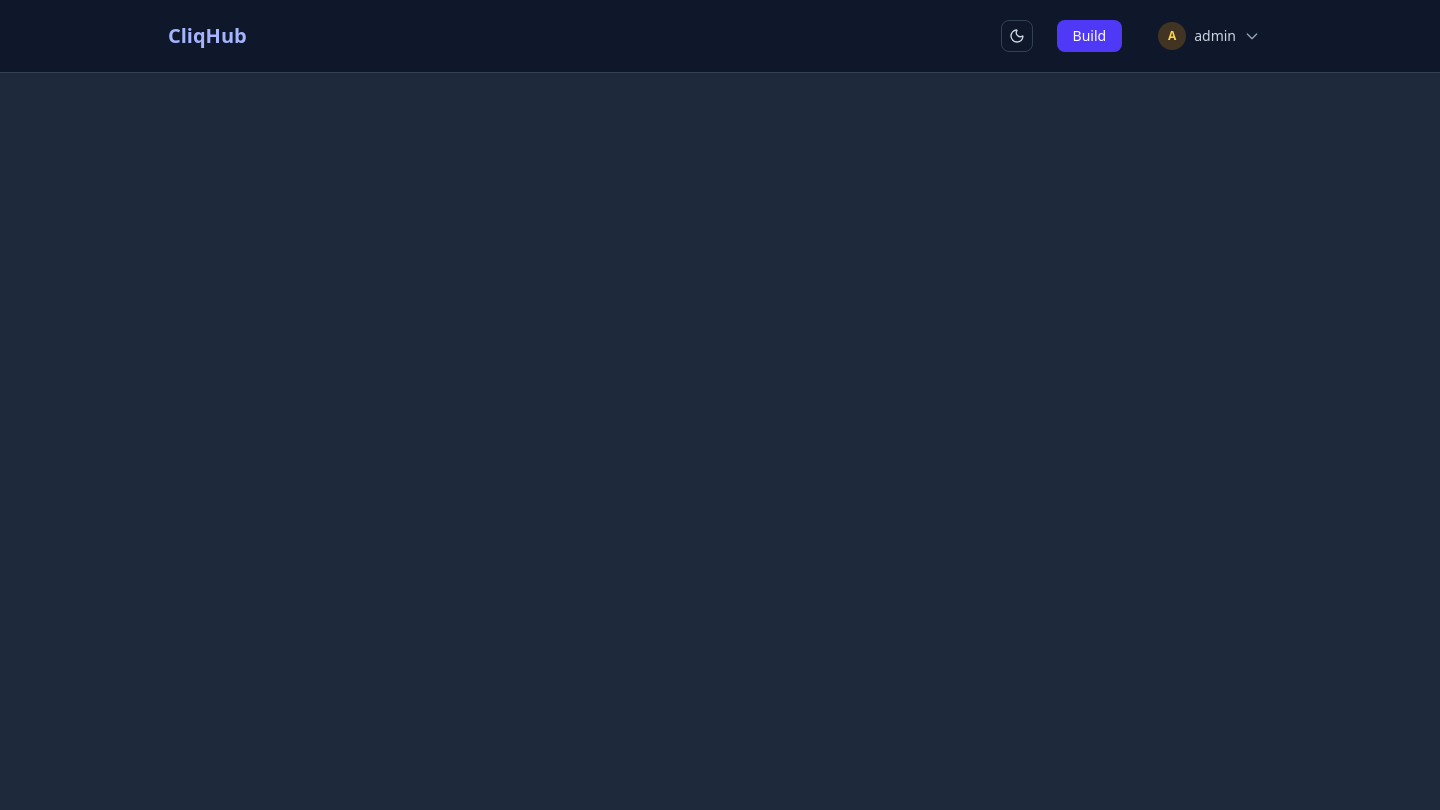
Test: NavBar › opens admin menu and closes on outside click
Expected: the link "Build" is shown, left=1057, top=20, right=1122, bottom=52
Click the text "admin" at (1215,36), box left=1194, top=26, right=1236, bottom=46
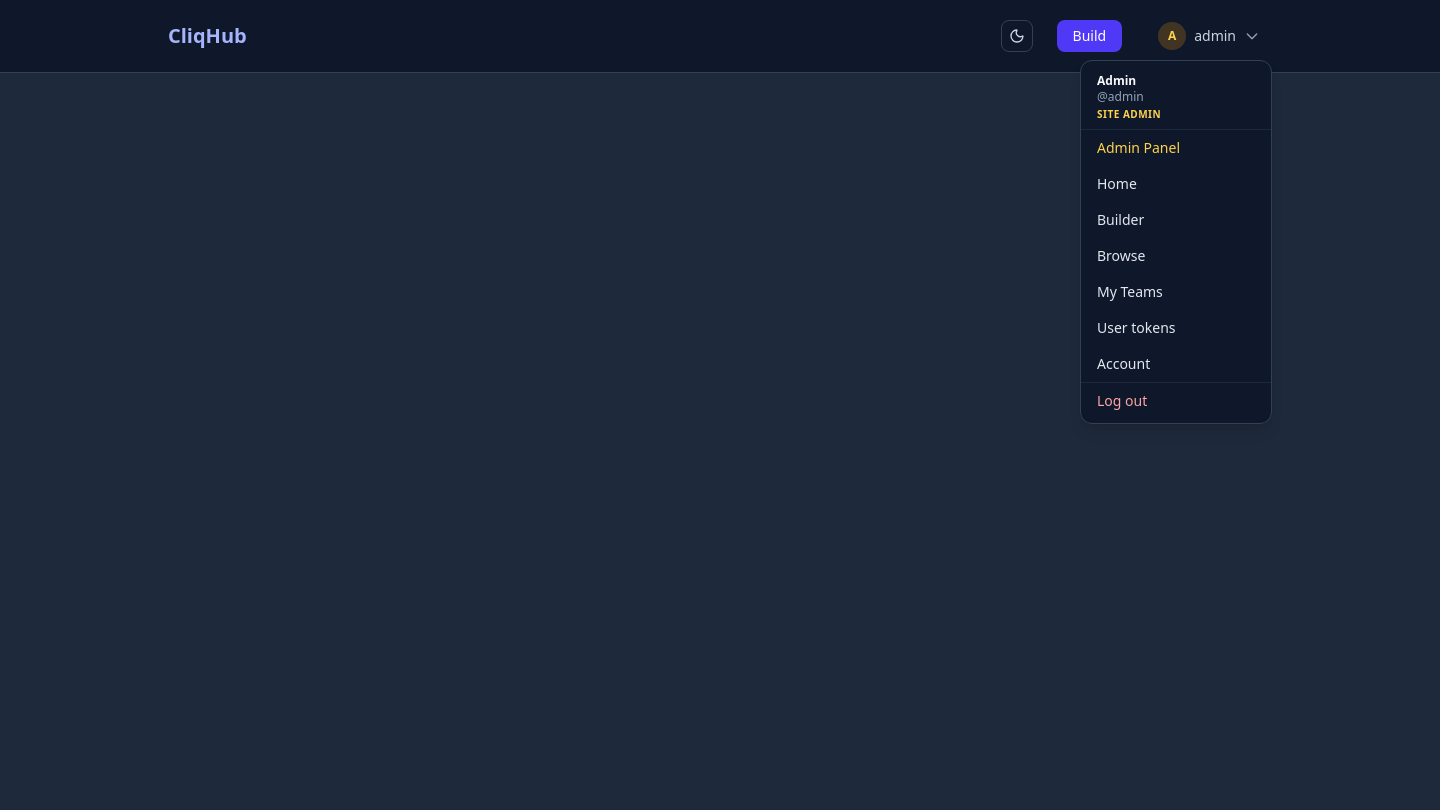
Result: the link "Admin Panel" is shown at left=1097, top=138, right=1180, bottom=157
Result: the text "Site Admin" is shown at left=1097, top=107, right=1161, bottom=121
Press the mouse on the element that starts with "CliqHub" at (720,405), box left=0, top=0, right=1439, bottom=809
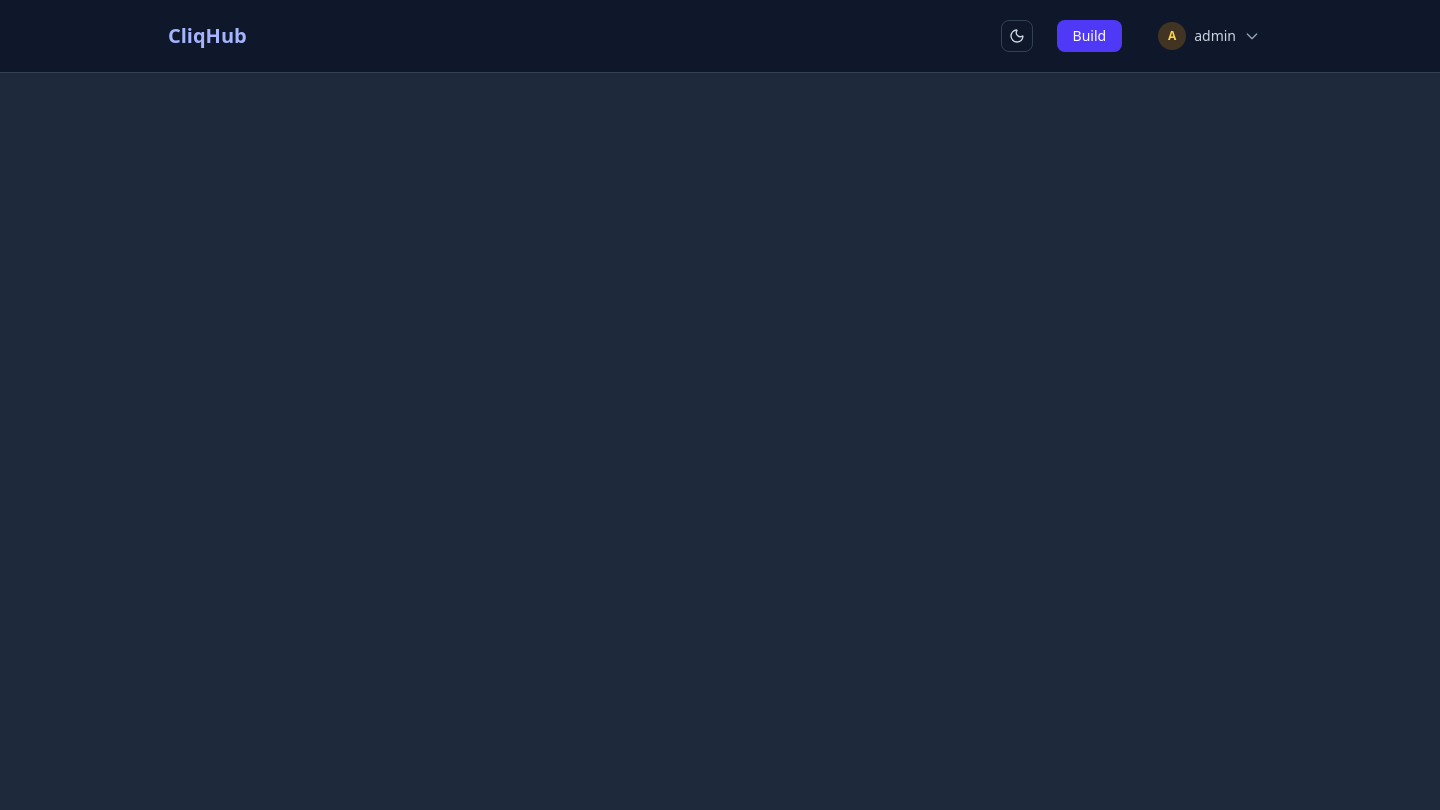
Result: the link "Admin Panel" is gone
